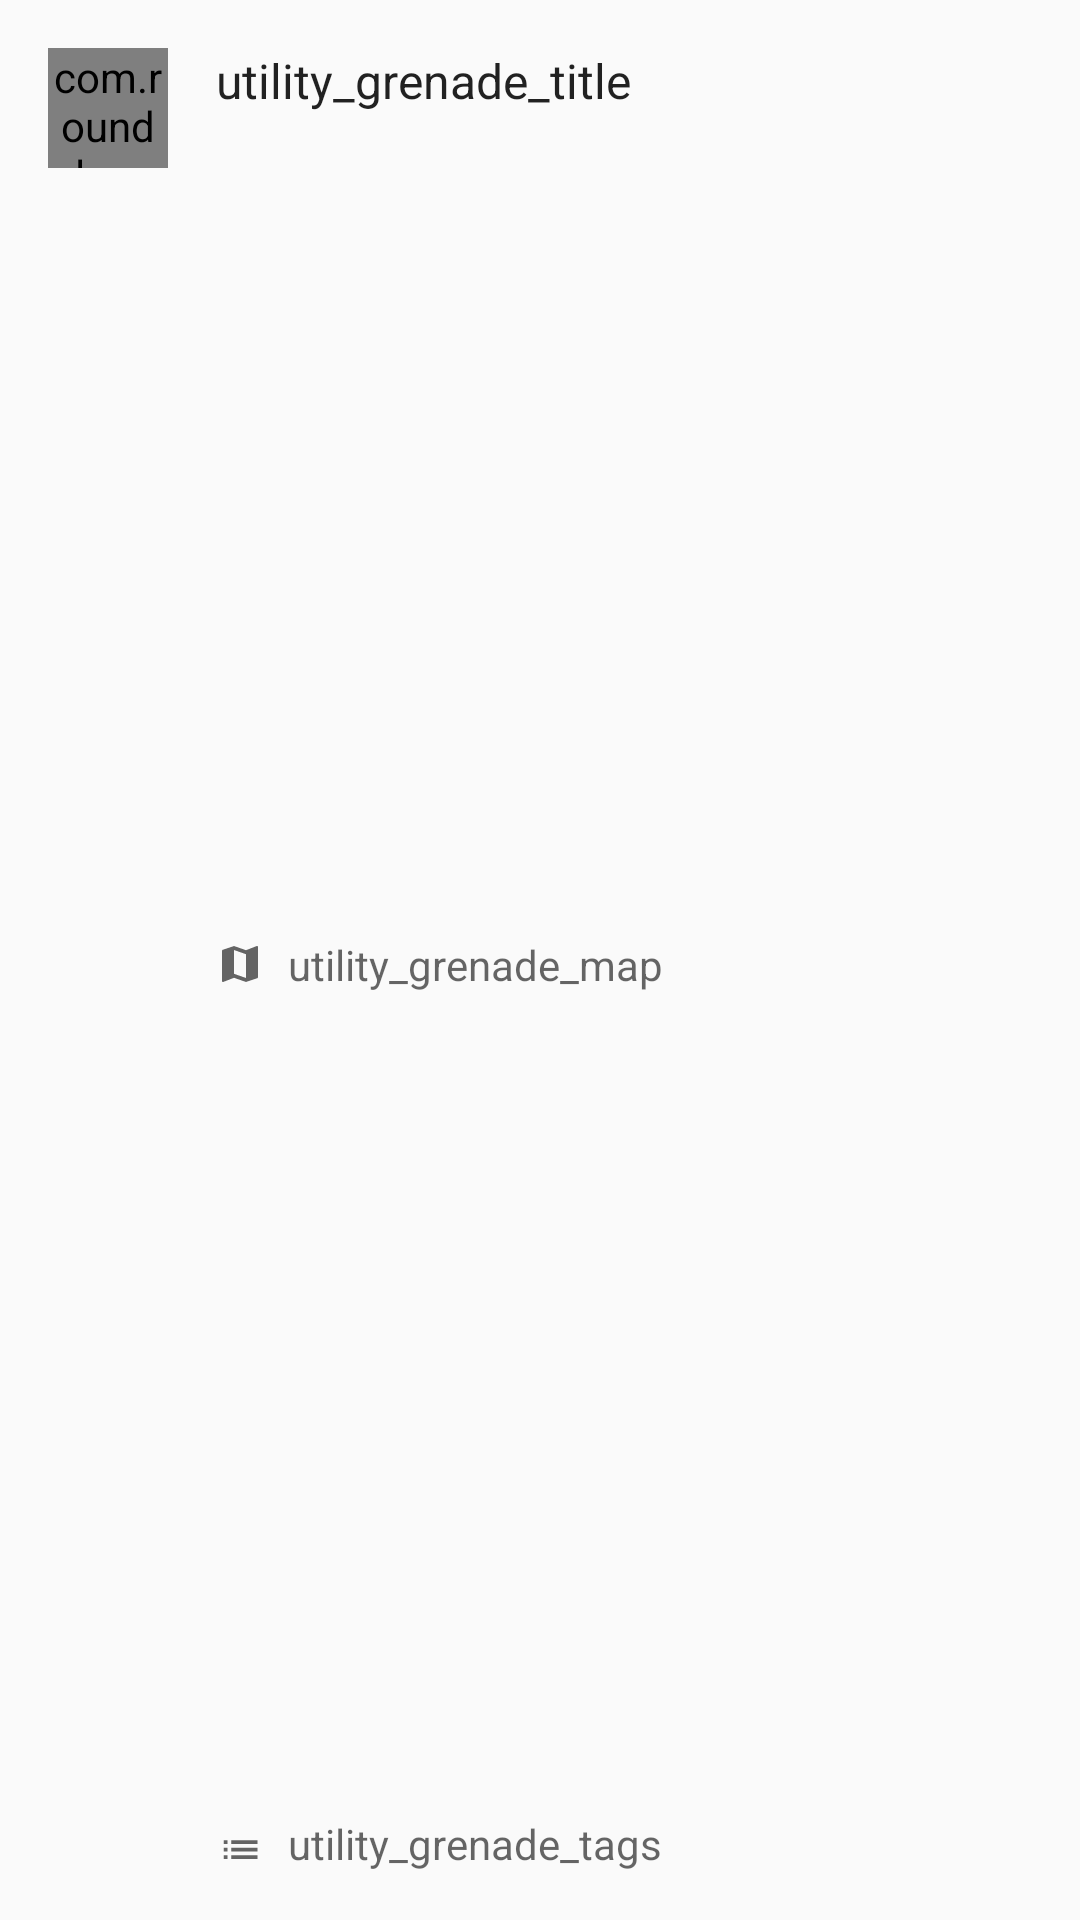

Icon click points for this 1080px x 1920px phone screenshot, format point (x, y):
list: point (240, 1849)
map secondary: point (240, 964)
